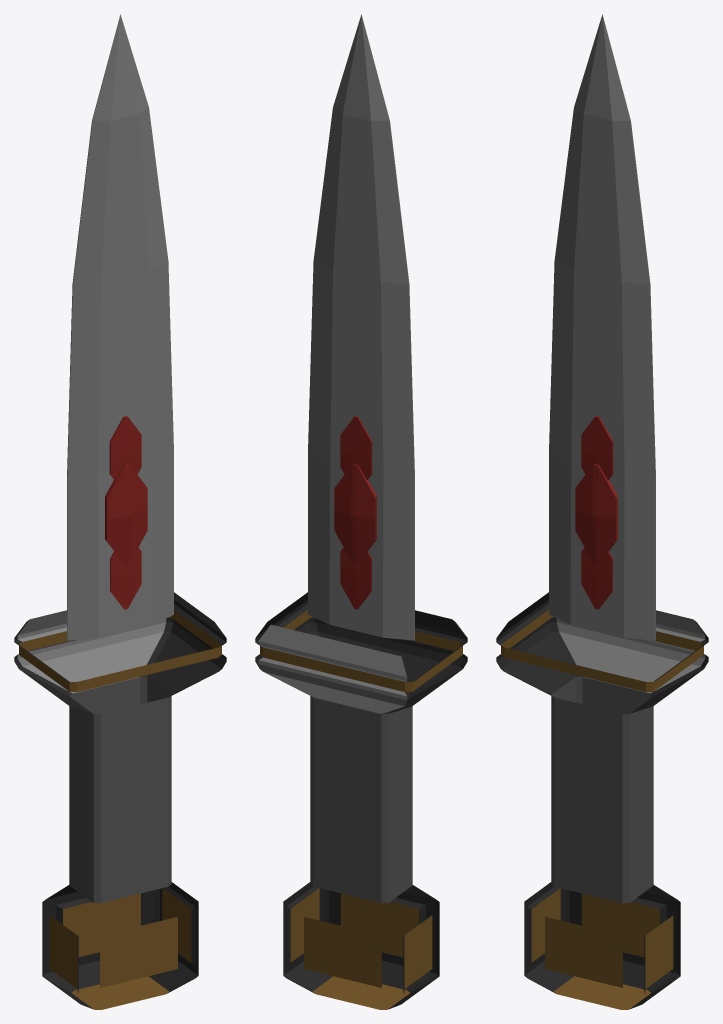
The model's file is sacrificialDagger.fbx.
The picture shows the model from 3 angles, left to right: view 1: azimuth 30°, elevation 25°; view 2: azimuth 150°, elevation 25°; view 3: azimuth 330°, elevation 25°; orthographic projection.
Parts seen in each view (by area): view 1: Sacrificial Dagger; view 2: Sacrificial Dagger; view 3: Sacrificial Dagger.
Part boxes in pixels (box(x1,y1,x2,y2)): Sacrificial Dagger: box(14, 14, 226, 1009); Sacrificial Dagger: box(255, 14, 467, 1009); Sacrificial Dagger: box(496, 14, 708, 1009).
Size of the model in its own units: 16.88 by 10.5 by 99.08.
